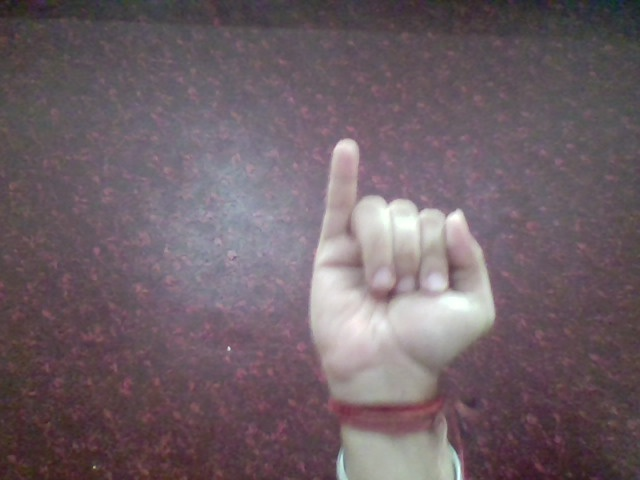i: (301, 133, 522, 405)
